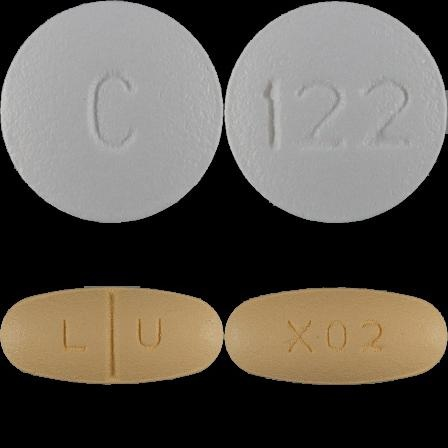61919-679: (0, 0, 224, 224)
